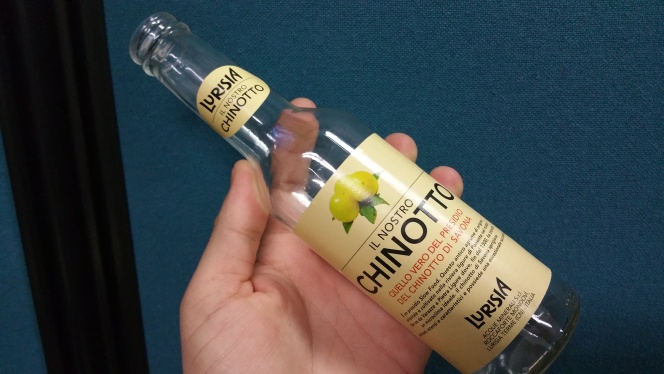bottle: (124, 11, 590, 368)
